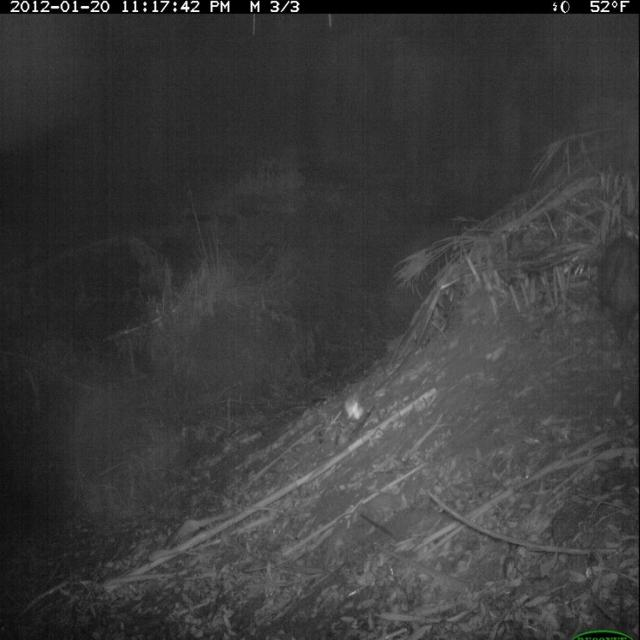opossum: (592, 213, 640, 363)
